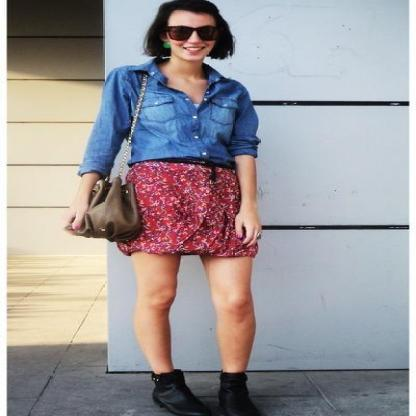jacket: (62, 60, 261, 176), (65, 175, 151, 249)
shoe: (137, 370, 260, 416)
skirt: (118, 162, 257, 266)
sunglass: (187, 19, 232, 41)
